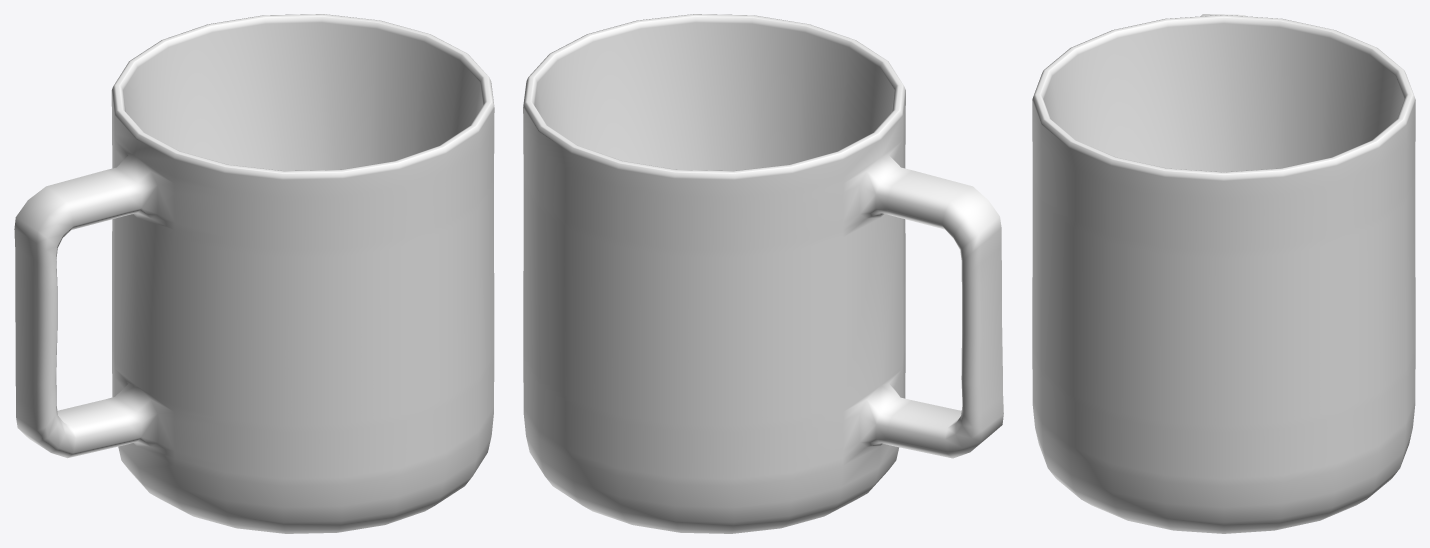
File: mugcup.fbx
The picture shows the model from 3 angles, left to right: view 1: azimuth 30°, elevation 25°; view 2: azimuth 150°, elevation 25°; view 3: azimuth 270°, elevation 25°; orthographic projection.
Parts seen in each view (by area): view 1: mugcup; view 2: mugcup; view 3: mugcup.
Part boxes in pixels (x1=…): mugcup: x1=14, y1=14, x2=494, y2=533; mugcup: x1=523, y1=14, x2=1003, y2=533; mugcup: x1=1032, y1=14, x2=1415, y2=533.
Size of the model in its own units: 2.66 by 2.17 by 1.99.
1 material, 1 textured.
